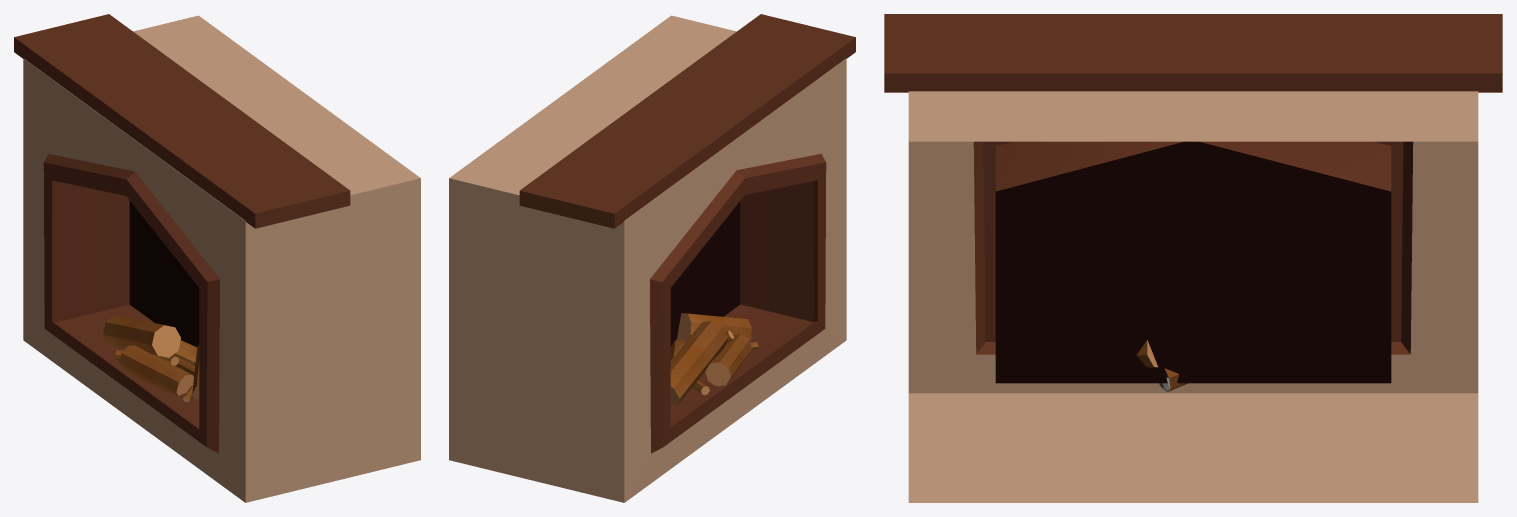
File: SM_FirePlace.fbx
The picture shows the model from 3 angles, left to right: view 1: azimuth 30°, elevation 25°; view 2: azimuth 150°, elevation 25°; view 3: azimuth 270°, elevation 25°; orthographic projection. The views are drawn at different scales.
Parts seen in each view (by area): view 1: pCylinder44; view 2: pCylinder44; view 3: pCylinder44.
Part boxes in pixels (left/top/right/bottom): pCylinder44: left=14, top=14, right=420, bottom=502; pCylinder44: left=449, top=14, right=855, bottom=502; pCylinder44: left=884, top=14, right=1502, bottom=502.
Bounding box in the file's own units: 30.29 × 46.51 × 68.72.
